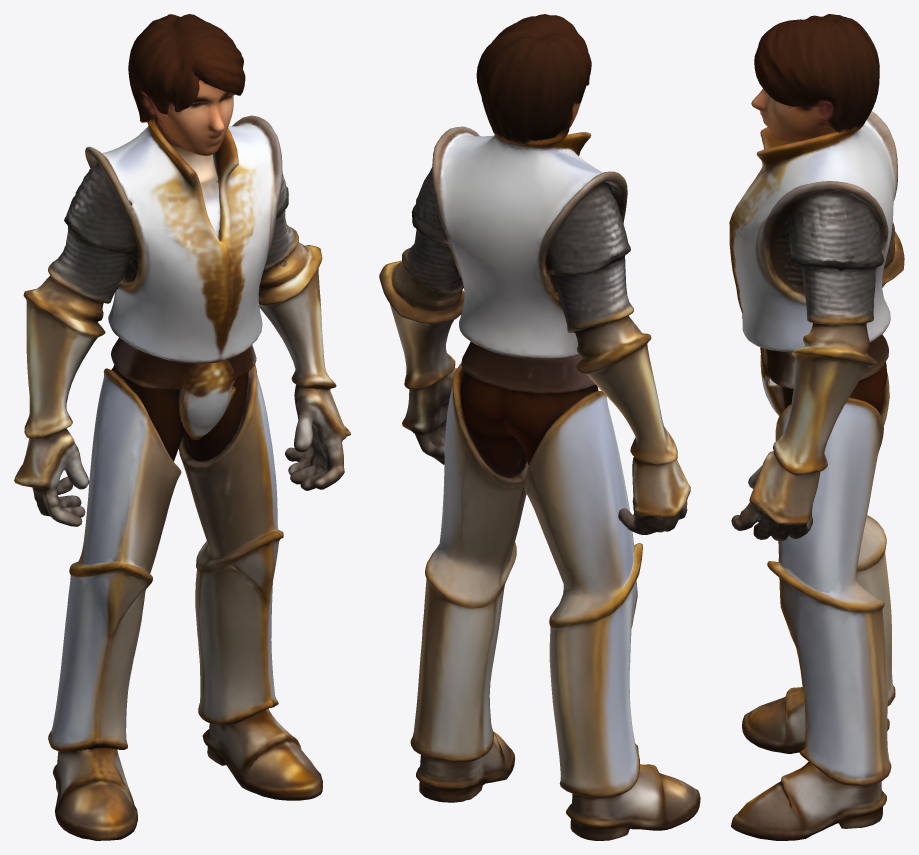
The model's file is paladin.glb.
3 renders of one model, left to right at view 1: azimuth 30°, elevation 25°; view 2: azimuth 150°, elevation 25°; view 3: azimuth 270°, elevation 25°, orthographic.
Parts seen in each view (by area): view 1: geometry_0; view 2: geometry_0; view 3: geometry_0.
Part boxes in pixels (x1,y1,x2,y2): geometry_0: (14, 14, 350, 840); geometry_0: (379, 14, 700, 840); geometry_0: (729, 14, 904, 840).
Size of the model in its own units: 0.4101 by 1 by 0.2073.
1 material, 1 textured.
